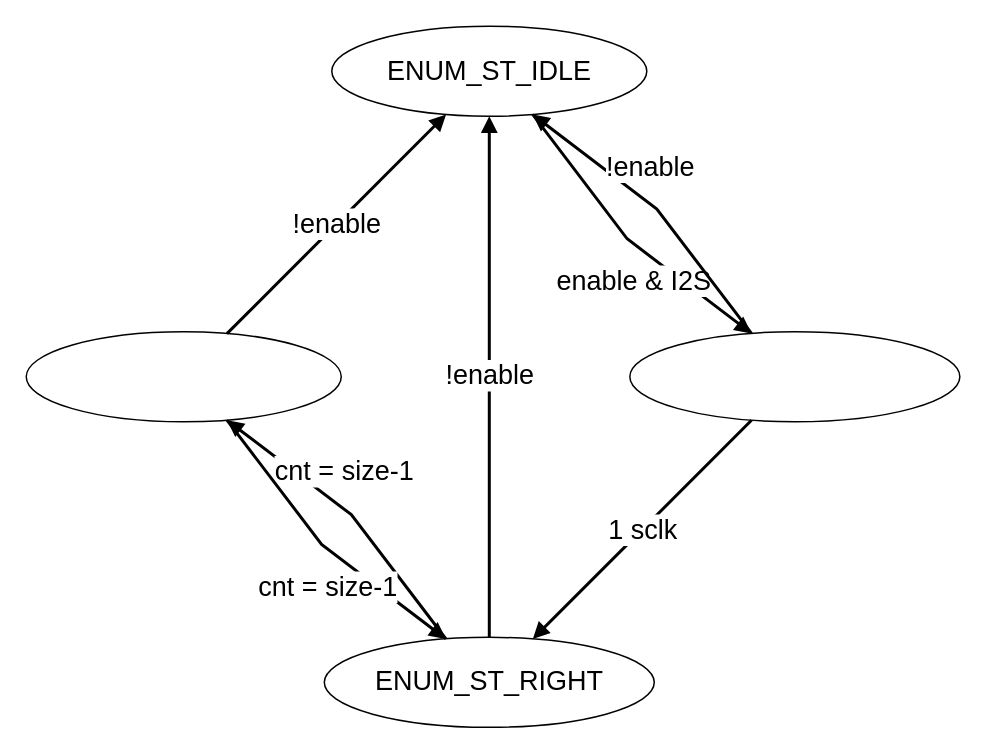
Image size: 987x755. Some labels were removed from this diagram. Each missing label, with the centre of its shape:
"ENUM_ST_FIRST" goes at point (794, 376).
"ENUM_ST_LEFT" goes at point (183, 376).
